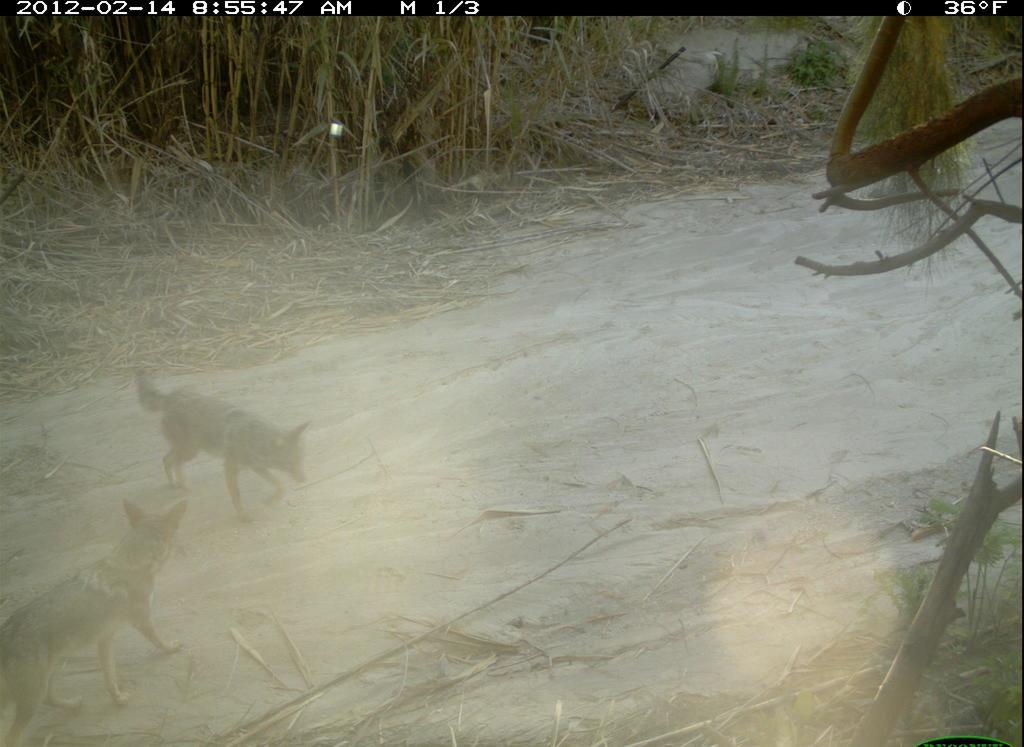coyote: (2, 478, 250, 730), (139, 356, 333, 502)
